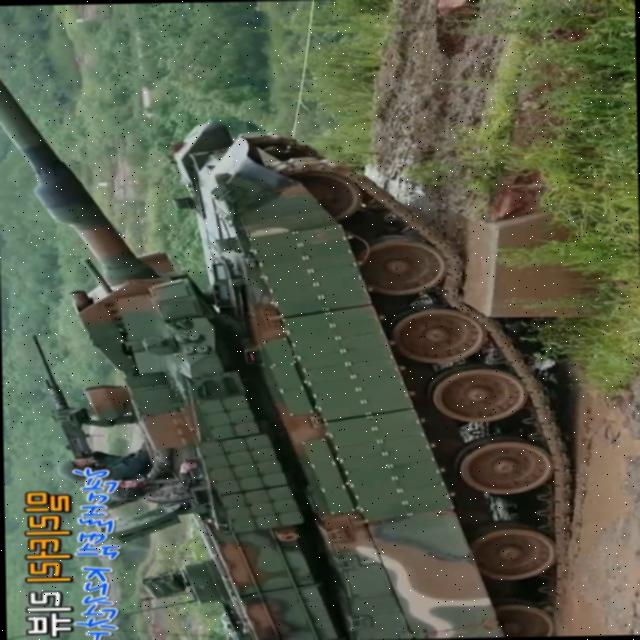korea tank: (0, 63, 574, 640)
